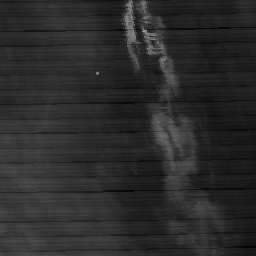Target: (94, 69, 101, 76)
